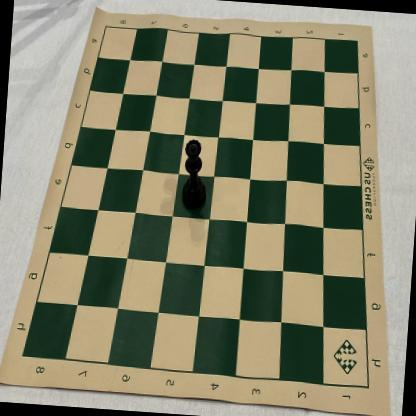black-queen: (180, 139, 210, 212)
